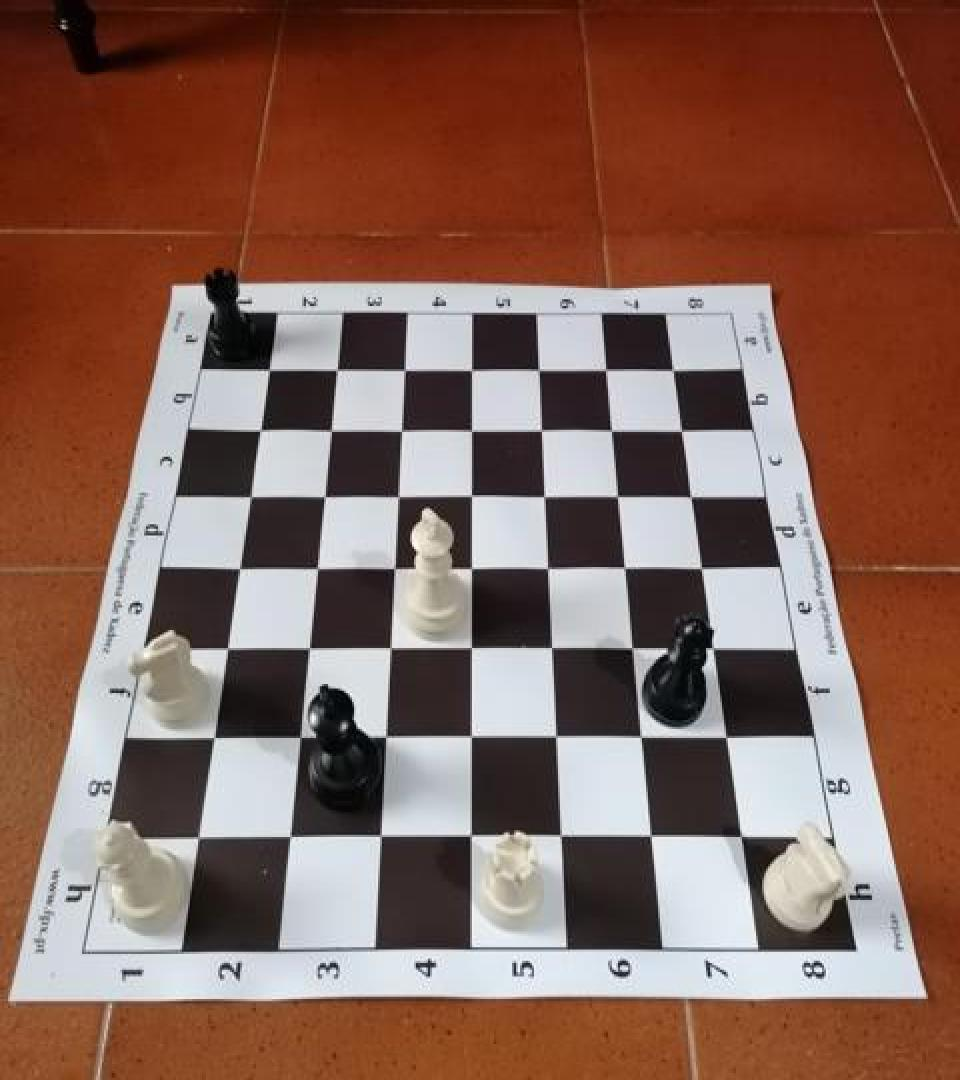xcorner: (284, 725, 316, 762), (197, 725, 229, 762), (656, 356, 688, 392), (589, 356, 621, 392), (521, 356, 553, 392), (454, 356, 486, 392), (386, 354, 418, 390), (317, 354, 349, 390), (249, 353, 281, 389), (666, 418, 698, 454), (595, 416, 627, 452), (525, 416, 557, 452), (454, 416, 486, 452), (383, 415, 415, 451), (312, 415, 344, 451), (240, 415, 272, 451), (676, 484, 708, 520), (602, 482, 634, 518), (529, 482, 561, 518), (455, 482, 487, 518), (380, 482, 412, 518), (306, 482, 338, 518), (231, 482, 263, 518), (687, 556, 719, 592), (610, 556, 642, 592), (533, 556, 565, 592), (455, 556, 487, 592), (377, 556, 409, 592), (299, 554, 331, 590), (221, 554, 253, 590), (700, 636, 732, 672), (619, 636, 651, 672), (537, 636, 569, 672), (456, 636, 488, 672), (374, 636, 406, 672), (292, 636, 324, 672), (210, 636, 242, 672), (713, 724, 745, 760), (628, 724, 660, 760), (543, 724, 575, 760), (457, 724, 489, 760), (371, 724, 403, 760), (729, 824, 761, 860), (639, 824, 671, 860), (548, 824, 580, 860), (458, 824, 490, 860), (367, 824, 399, 860), (275, 824, 307, 860), (183, 824, 215, 860)
